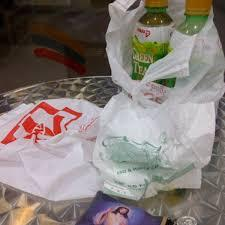Plastic bag: (74, 0, 216, 203), (2, 74, 104, 213)
